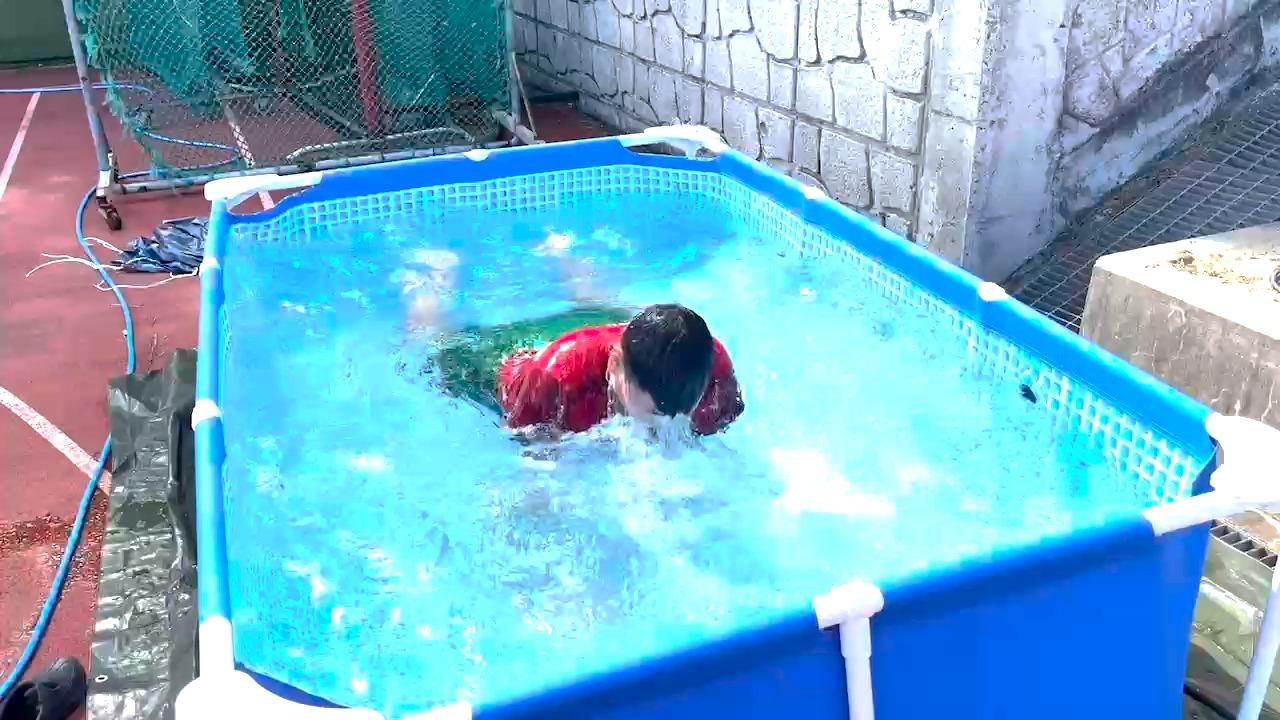Drowning: (393, 240, 772, 467)
